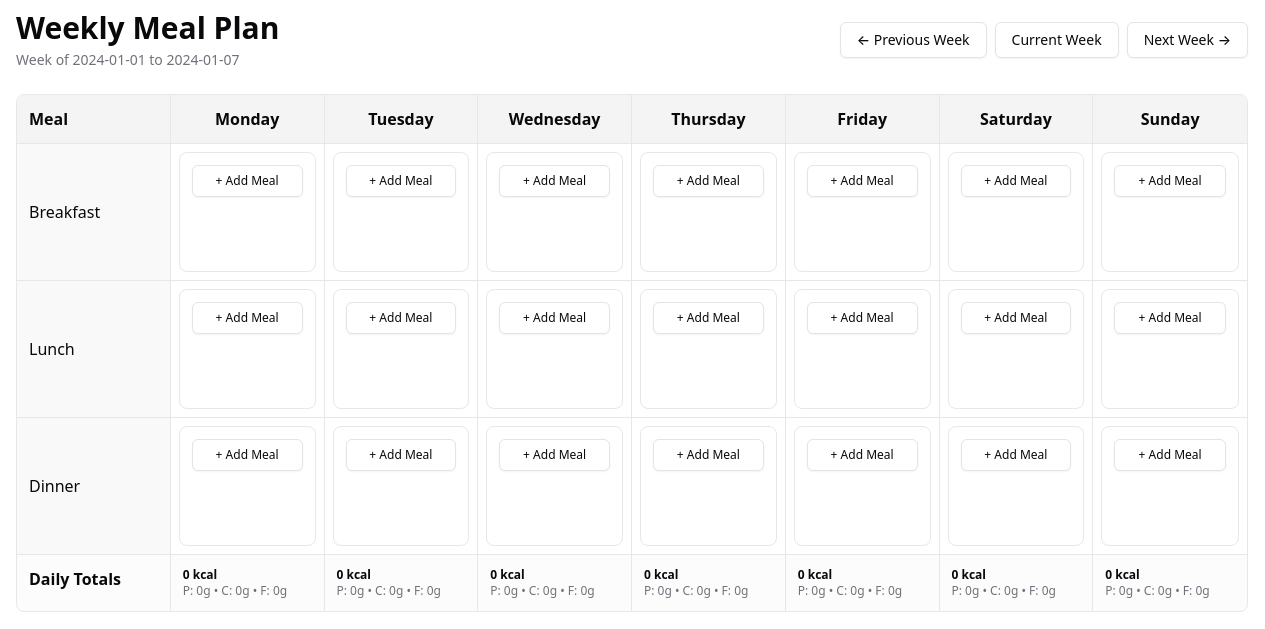
it: WeeklyMealPlanner › Week Navigation › navigates to next week when clicking Next Week button
This screenshot has width=1265, height=629.
Expected: the text "Week of 2024-01-01 to 2024-01-07" is shown, [16,50,240,69]
Step 1. Click the button "Next Week →" → (1187, 40), box [1127,22,1248,58]
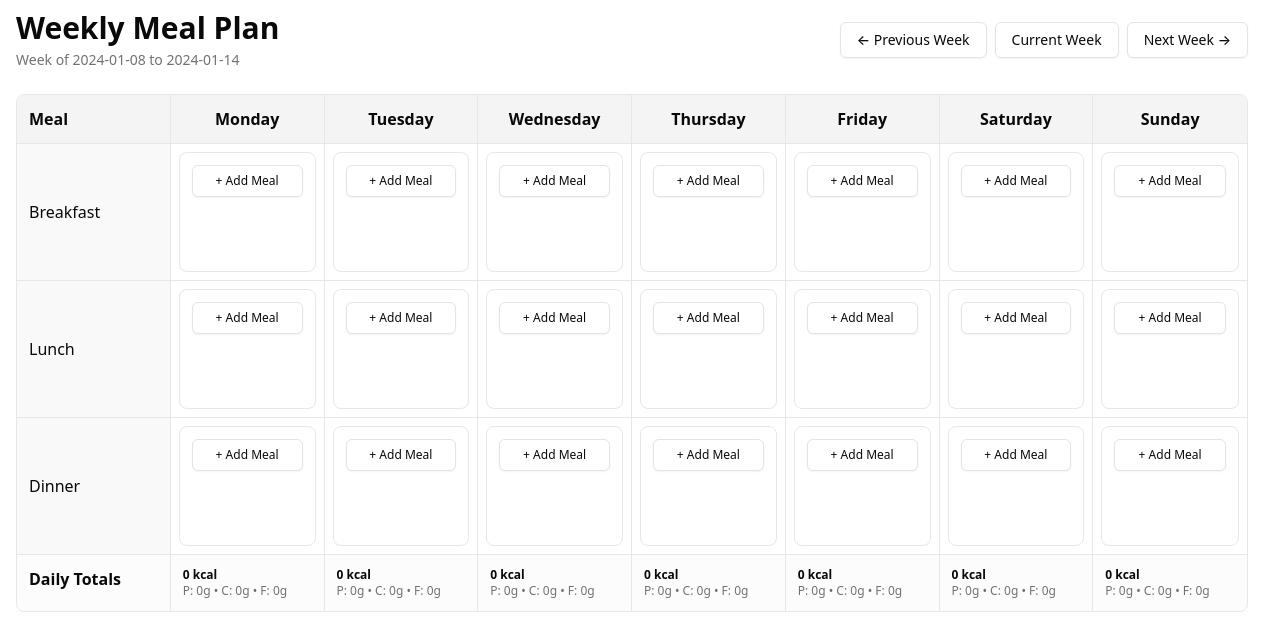
Result: the text "Week of 2024-01-08 to 2024-01-14" is shown at [16,50,240,69]
